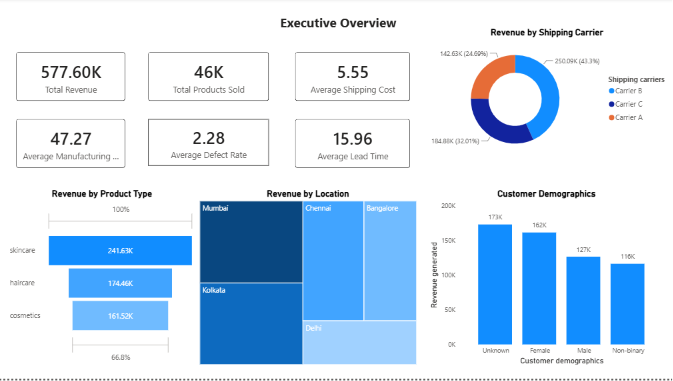

The page's visual inventory and layout, read from the dashboard file:
{"tool":"powerbi","page":{"name":"Page 1","canvas":[1280,720],"ordinal":0},"visuals":[{"type":"textbox","box":[483.8,24.6,311.8,60.5],"z":0},{"type":"cardVisual","fields":{"Data":["Supply Chain.Total Revenue"]},"box":[17,85,240,126.6],"z":1000},{"type":"cardVisual","fields":{"Data":["Supply Chain.Total Products Sold"]},"box":[266.5,85,262.7,126.6],"z":2000},{"type":"cardVisual","fields":{"Data":["Supply Chain.Average Shipping Cost"]},"box":[544.3,85,251.3,126.6],"z":3000},{"type":"cardVisual","fields":{"Data":["Supply Chain.Average Manufacturing Cost"]},"box":[17,211.7,240,126.6],"z":4000},{"type":"cardVisual","fields":{"Data":["Supply Chain.Average Lead Time"]},"box":[544.3,211.7,251.3,126.6],"z":5000},{"type":"cardVisual","fields":{"Data":["Supply Chain.Average Defect Rate"]},"box":[266.5,211.7,262.7,122.8],"z":6000},{"type":"funnel","title":"Revenue by Product Type","fields":{"Category":["Supply Chain.Product type"],"Y":["Supply Chain.Total Revenue"]},"box":[17,359.1,359.1,338.3],"z":7000},{"type":"donutChart","title":"Revenue by Shipping Carrier","fields":{"Category":["Supply Chain.Shipping carriers"],"Y":["Sum(Supply Chain.Revenue generated)"]},"box":[795.6,85,483.8,253.2],"z":8000},{"type":"treemap","title":"Revenue by Location","fields":{"Group":["Supply Chain.Location"],"Values":["Sum(Supply Chain.Revenue generated)"]},"box":[376.1,359.1,419.5,338.3],"z":9000},{"type":"clusteredColumnChart","title":"Customer Demographics","fields":{"Category":["Supply Chain.Customer demographics"],"Y":["Sum(Supply Chain.Revenue generated)"]},"box":[818.3,359.1,451.7,338.3],"z":10000}]}

Visuals, with their boxes in screenshot pixels (x1, y1, x2, y2), scaled from the page's 1280x720 canvas onto the 673x381 screenshot:
textbox: (254,13,418,45)
cardVisual - Supply Chain.Total Revenue: (9,45,135,112)
cardVisual - Supply Chain.Total Products Sold: (140,45,278,112)
cardVisual - Supply Chain.Average Shipping Cost: (286,45,418,112)
cardVisual - Supply Chain.Average Manufacturing Cost: (9,112,135,179)
cardVisual - Supply Chain.Average Lead Time: (286,112,418,179)
cardVisual - Supply Chain.Average Defect Rate: (140,112,278,177)
"Revenue by Product Type" funnel: (9,190,198,369)
"Revenue by Shipping Carrier" donutChart: (418,45,672,179)
"Revenue by Location" treemap: (198,190,418,369)
"Customer Demographics" clusteredColumnChart: (430,190,668,369)
